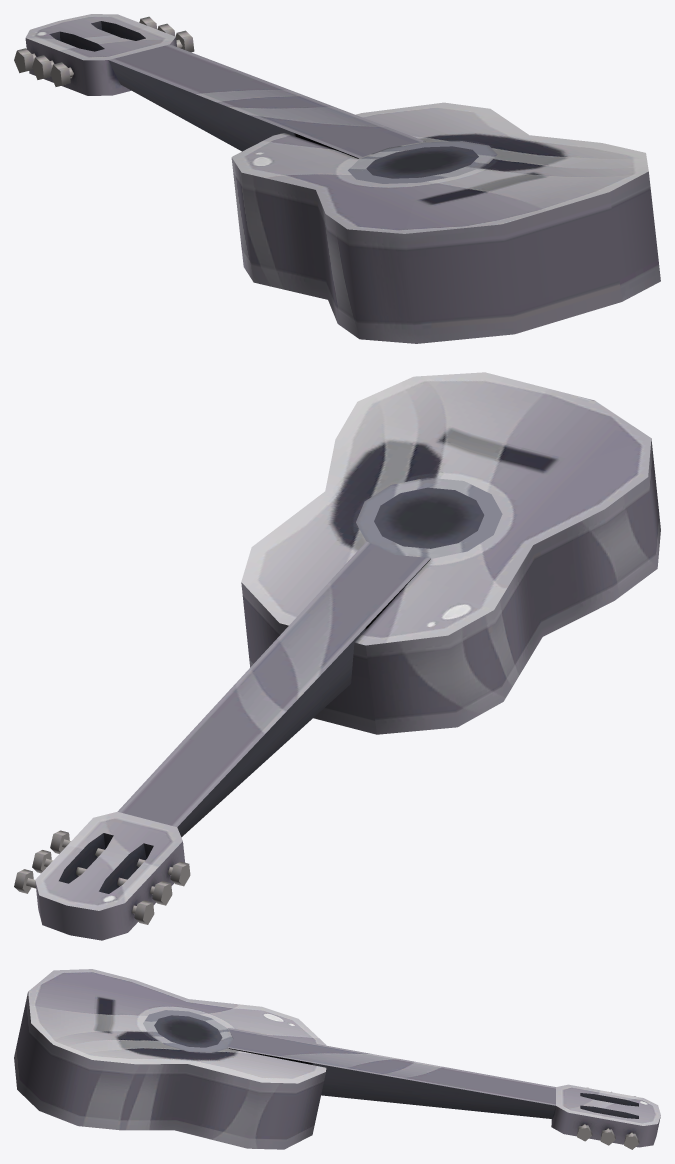
Rendered from InteractiveSilverAcousticGuitar.fbx.
3 views of the same model, one above another, from view 1: azimuth 30°, elevation 25°; view 2: azimuth 150°, elevation 25°; view 3: azimuth 270°, elevation 25° (orthographic). The views are drawn at different scales.
Visible parts, largest first — view 1: InteractiveAcousticGuitar; view 2: InteractiveAcousticGuitar; view 3: InteractiveAcousticGuitar.
Boxes of the visible parts, x1=… form: InteractiveAcousticGuitar: x1=14, y1=14, x2=660, y2=343; InteractiveAcousticGuitar: x1=14, y1=372, x2=660, y2=940; InteractiveAcousticGuitar: x1=14, y1=969, x2=660, y2=1149.
Size of the model in its own units: 29.02 by 19.05 by 84.49.
